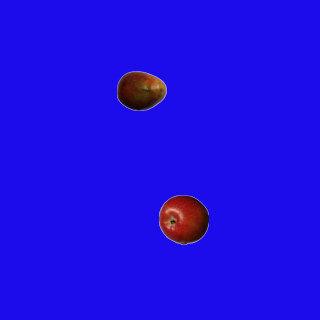Apple Braeburn: (158, 194, 208, 244)
Mango Red: (116, 65, 166, 115)
